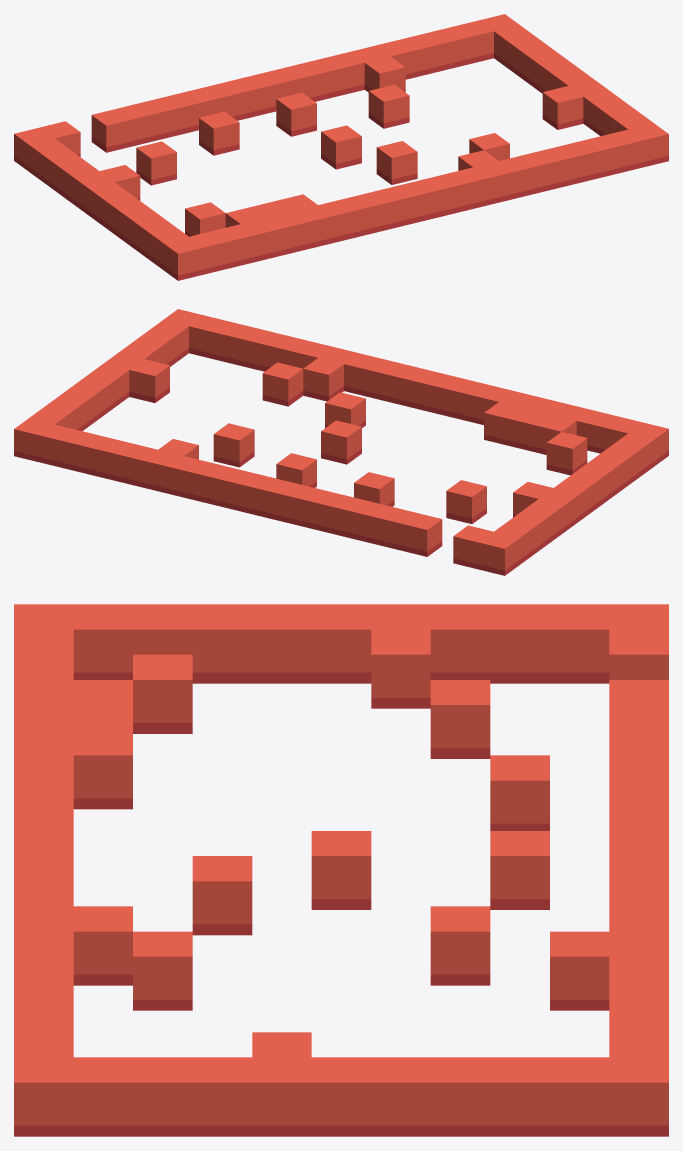
Rendered from map10.obj.
3 renders of one model, top to bottom at view 1: azimuth 30°, elevation 25°; view 2: azimuth 150°, elevation 25°; view 3: azimuth 270°, elevation 25°, orthographic. The views are drawn at different scales.
Visible parts, largest first — view 1: mergedBlocks; view 2: mergedBlocks; view 3: mergedBlocks.
Boxes of the visible parts, x1,y1,x2,y2 form: mergedBlocks: (14,14,668,280); mergedBlocks: (14,309,668,575); mergedBlocks: (14,604,668,1136).
Size of the model in its own units: 19 by 1 by 11.
